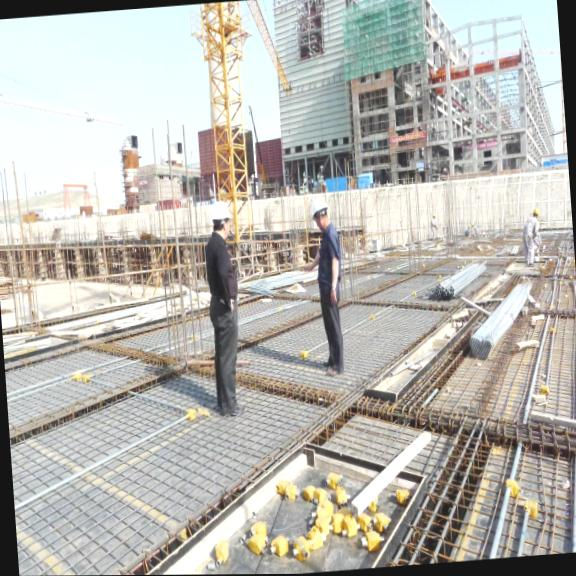no_safety_vest: (199, 230, 240, 303), (314, 223, 346, 295)
